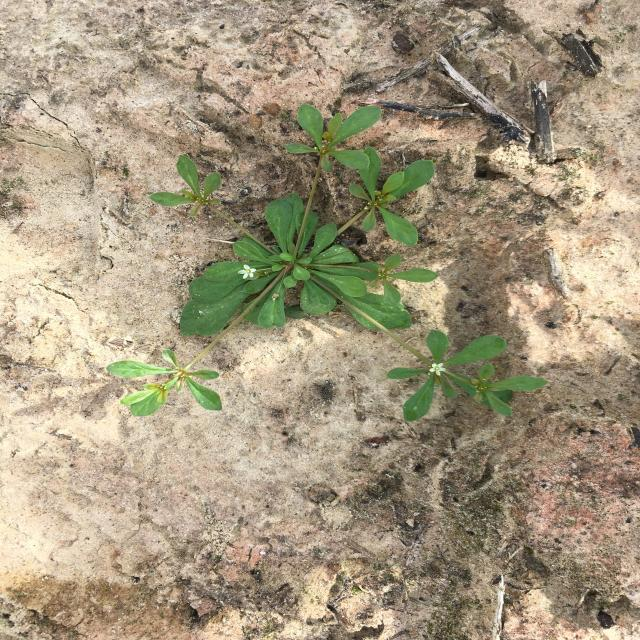Carpetweed: (106, 104, 549, 422)
